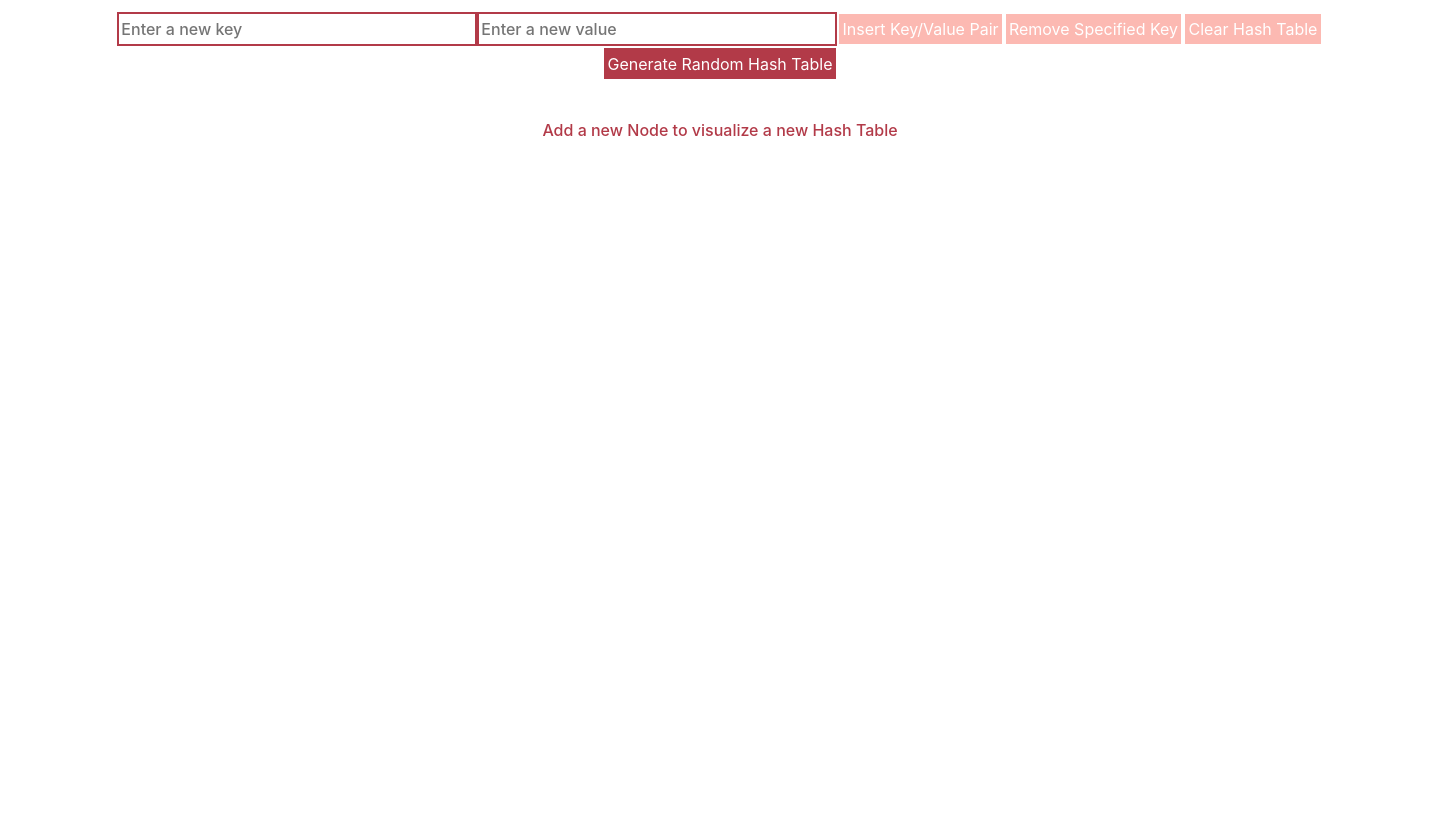
Test case: Hash Table Visualizer tests › HashTableVisualizer generateRandomHashTable correctly generates a hash table
Check: the heading "Add a new Node to visualize a new Hash Table" is shown, box [542,120,898,140]
Click the button "Generate Random Hash Table" at [720, 64], box [604,48,836,79]
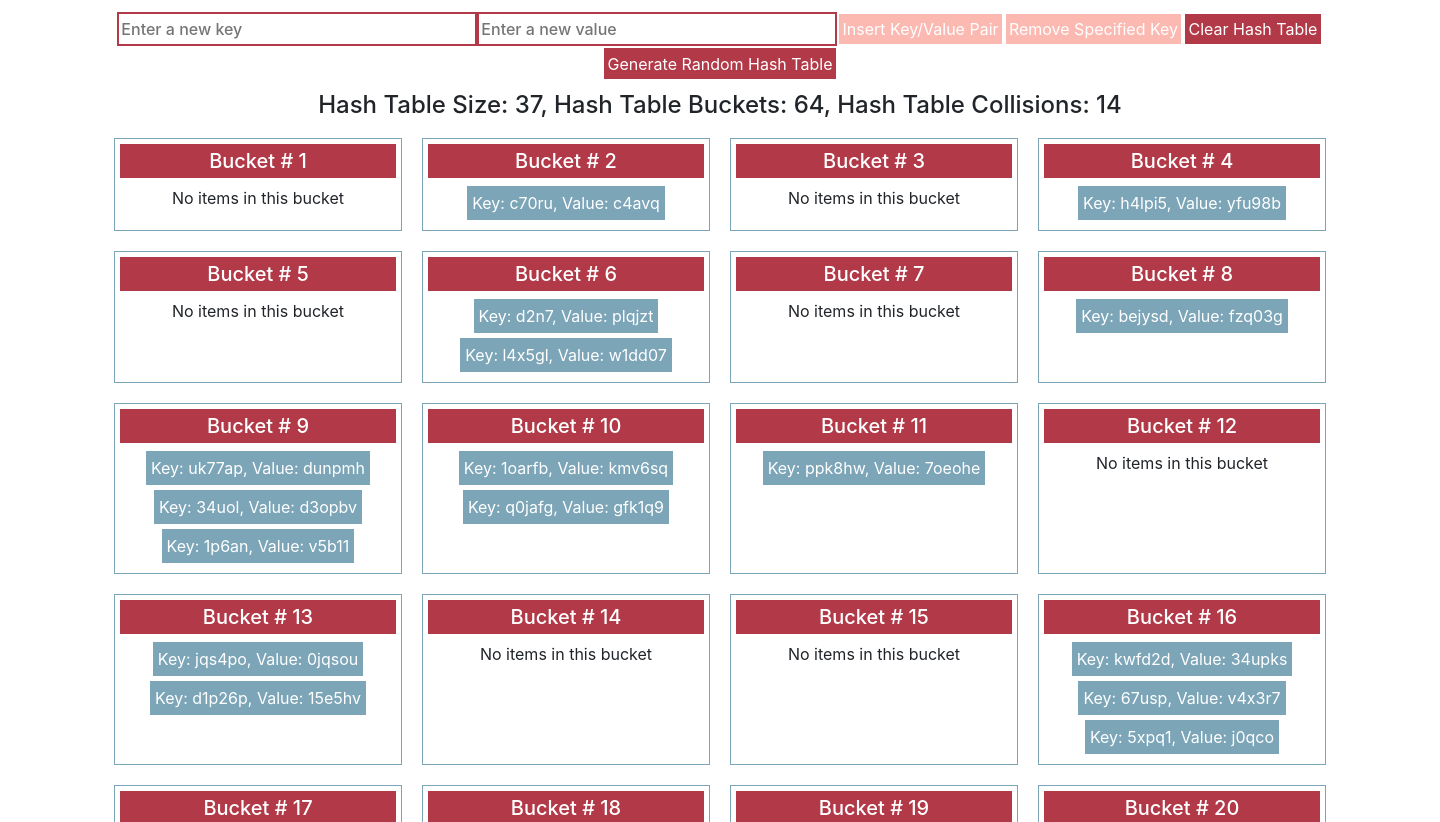
Check: the heading "Add a new Node to visualize a new Hash Table" is gone
